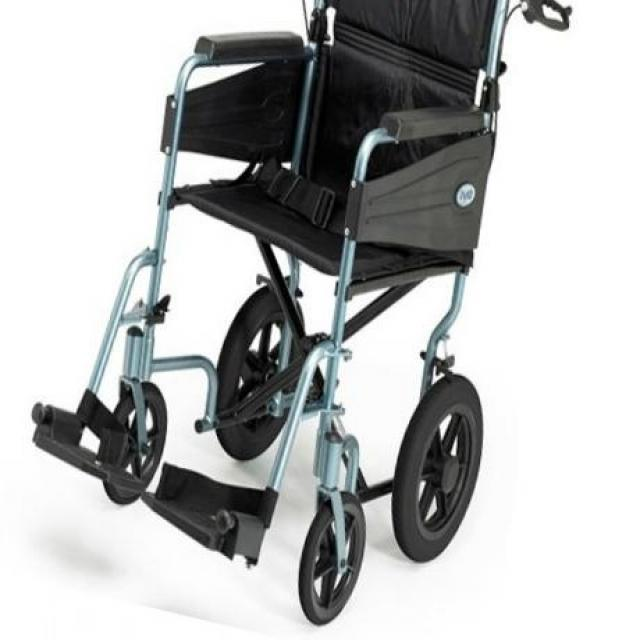wheelchair: (22, 0, 574, 633)
